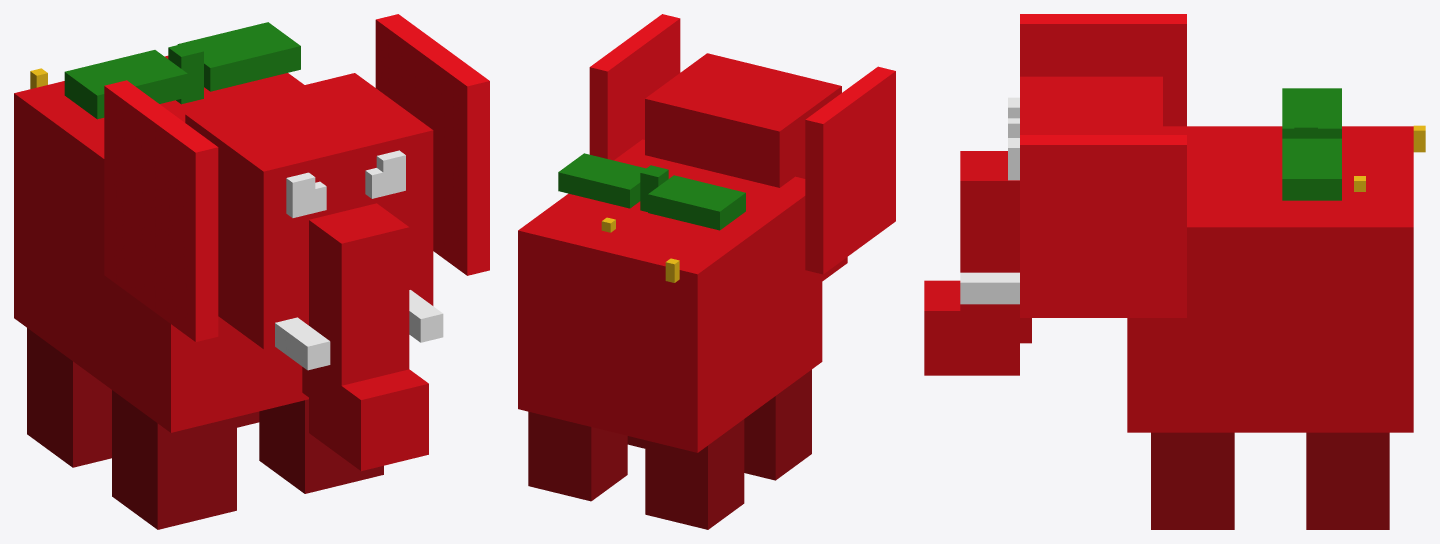
The model's file is strawberry_elephant.glb.
3 renders of one model, left to right at view 1: azimuth 30°, elevation 25°; view 2: azimuth 150°, elevation 25°; view 3: azimuth 270°, elevation 25°, orthographic. The views are drawn at different scales.
Visible parts, largest first — view 1: brainrot; view 2: brainrot; view 3: brainrot.
Part boxes in pixels (left/top/right/bottom): brainrot: left=14, top=14, right=489, bottom=529; brainrot: left=518, top=14, right=895, bottom=529; brainrot: left=924, top=14, right=1425, bottom=529.
Size of the model in its own units: 5.06 by 7.2 by 8.17.
1 material, 1 textured.
